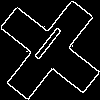I: (25, 25, 65, 70)
